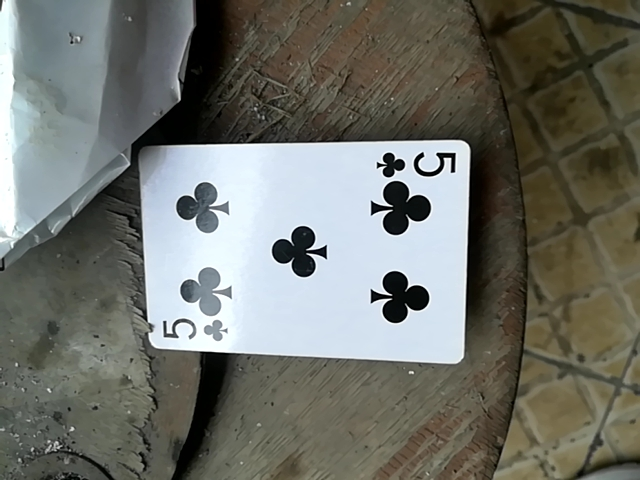mh 5: (131, 137, 464, 371)
